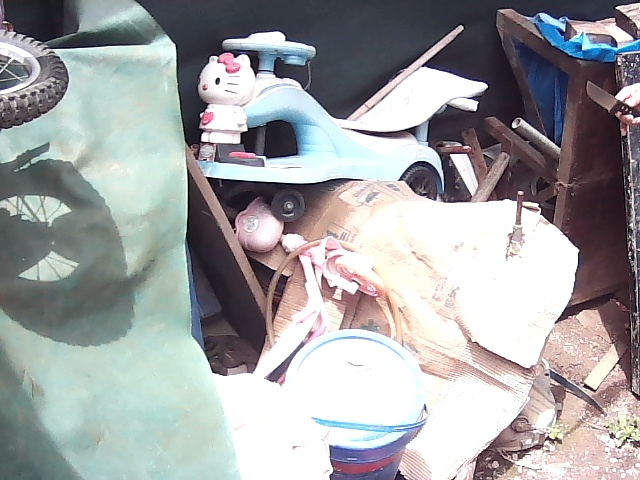cuchillo: (582, 75, 639, 127)
